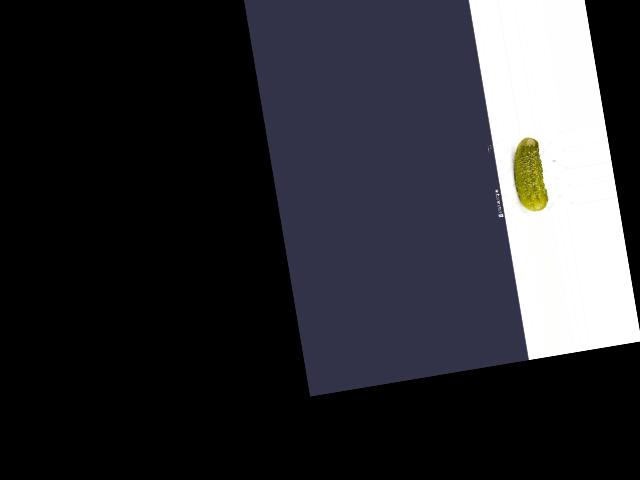cucumber: (507, 134, 549, 213)
